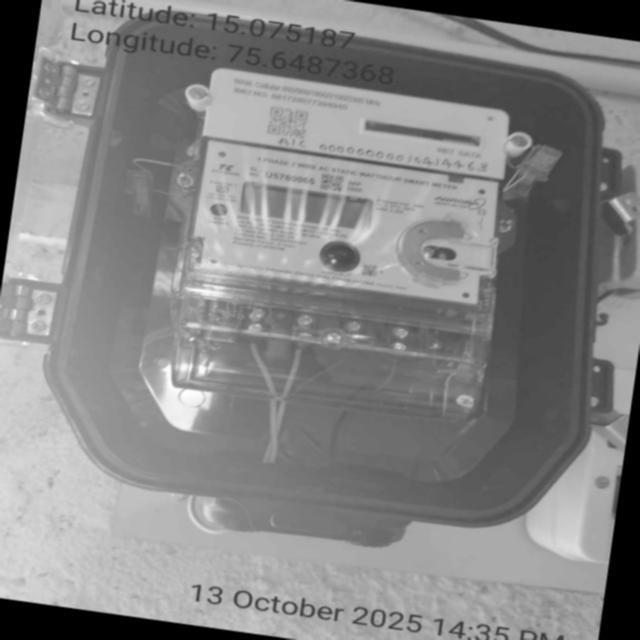meter: (183, 64, 520, 311)
